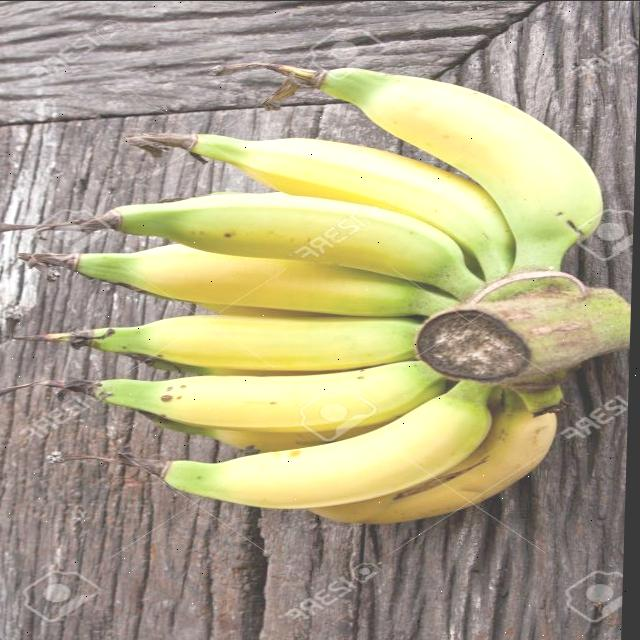banana: (0, 55, 638, 531)
